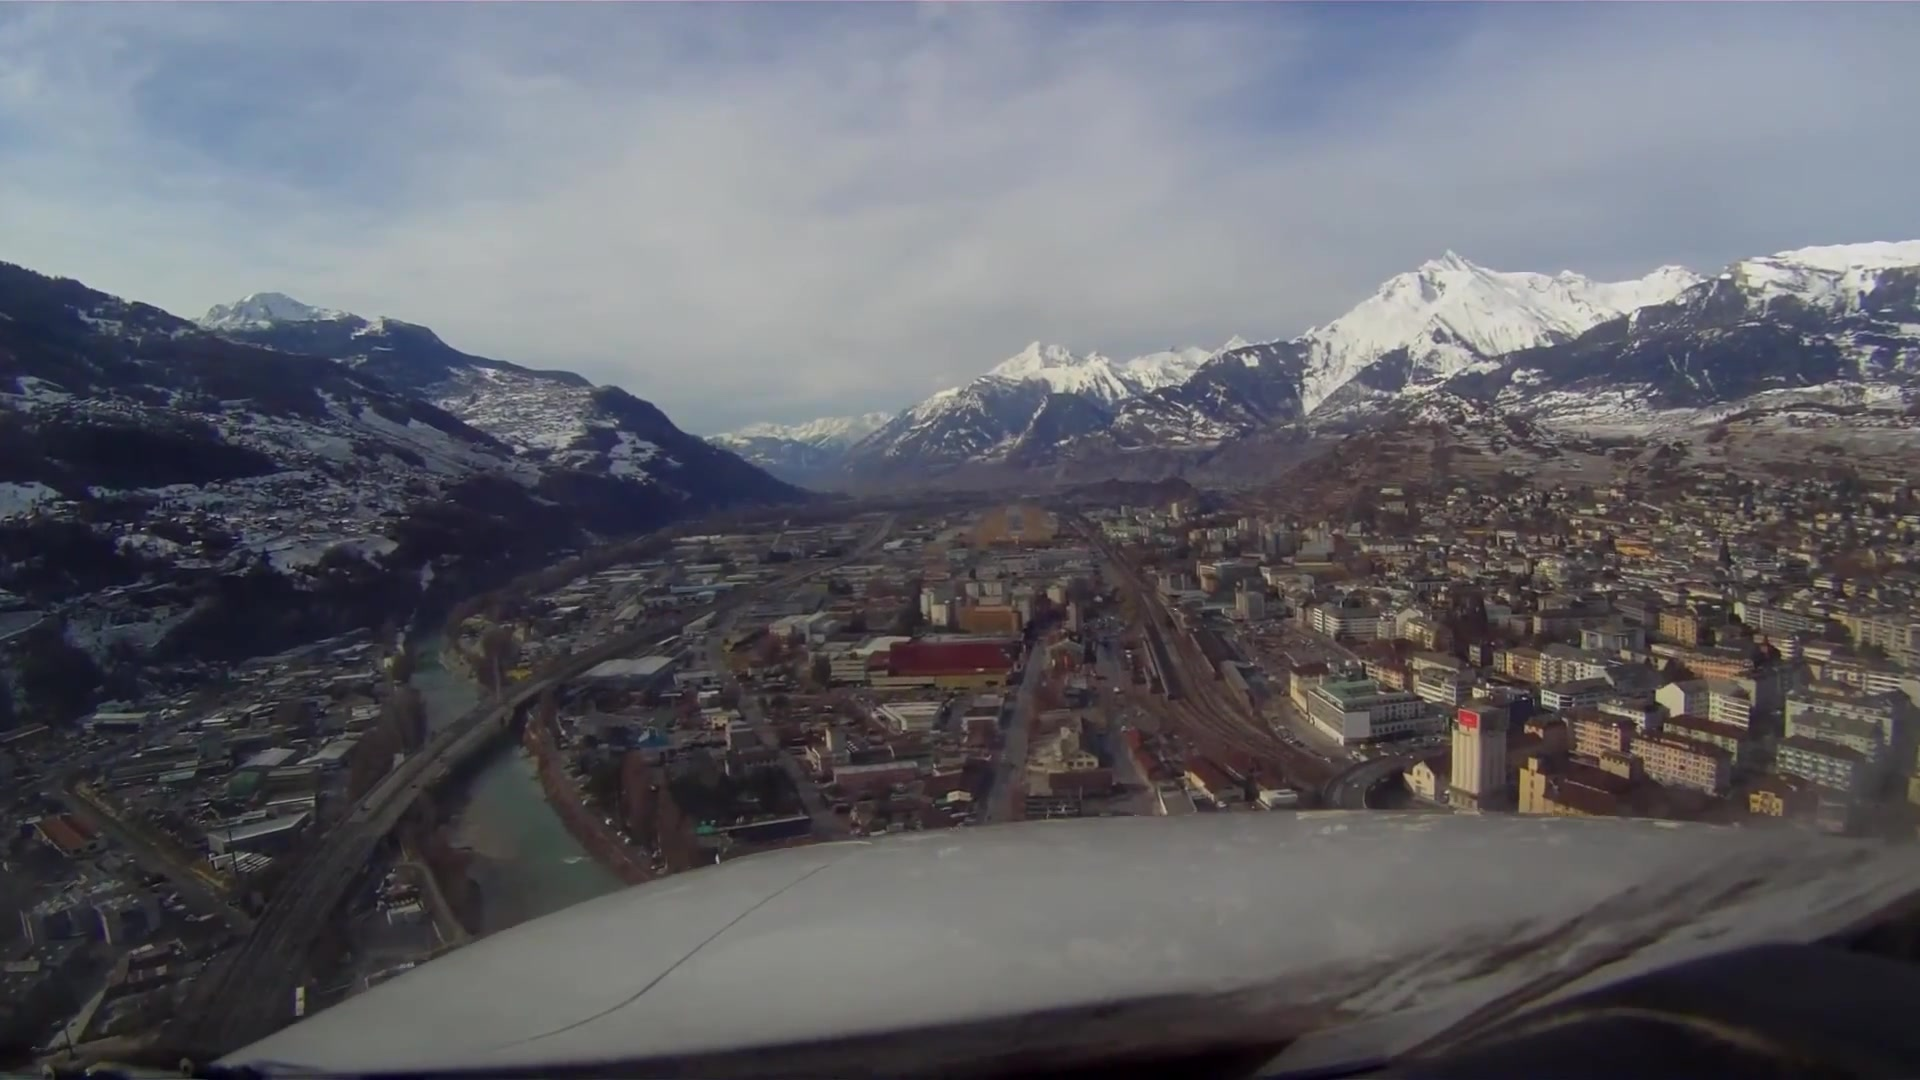runway: (1002, 502, 1026, 535)
